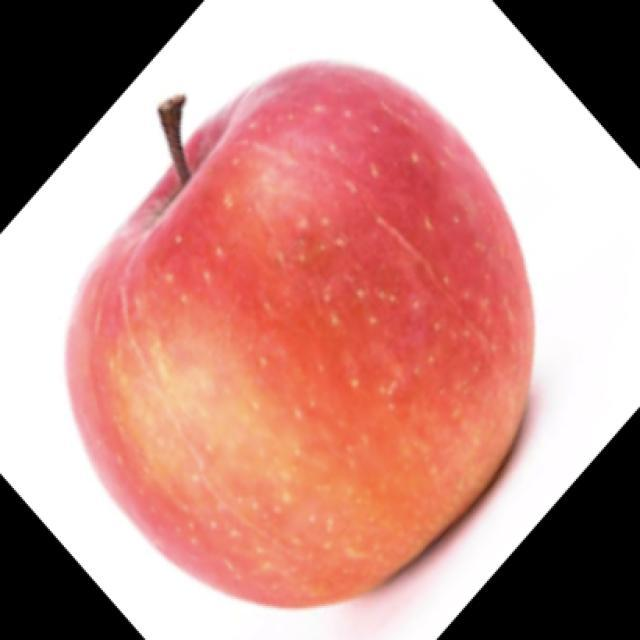Apple: (64, 58, 536, 609)
